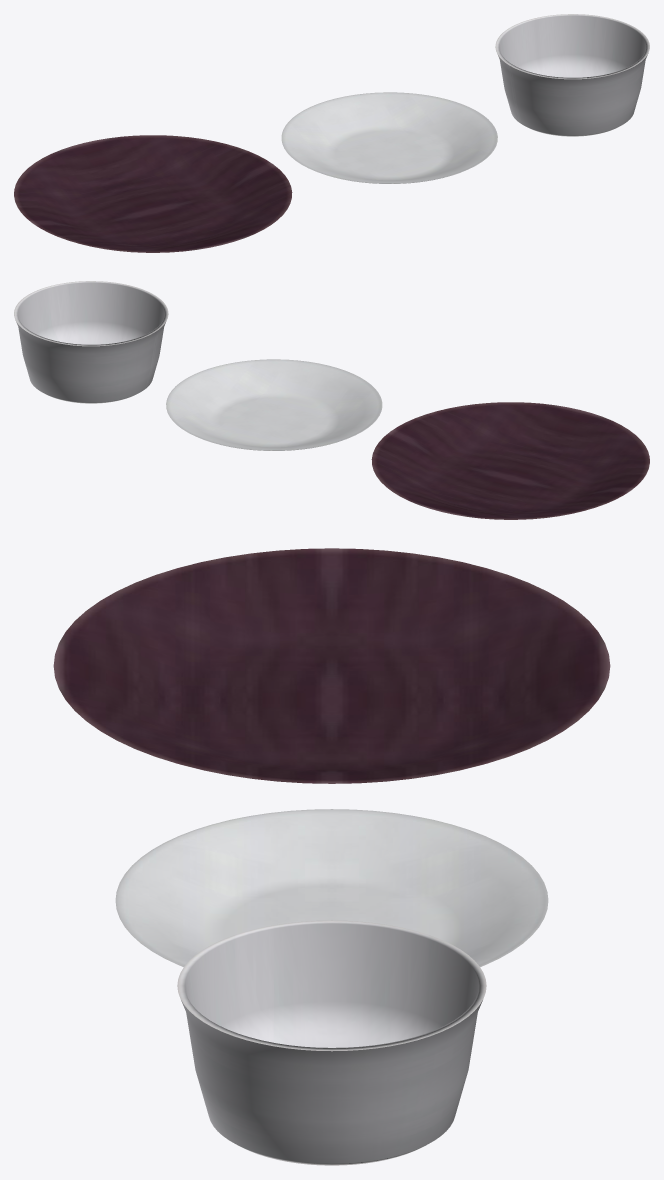
The model's file is FLO-09.glb.
3 views of the same model, one above another, from view 1: azimuth 30°, elevation 25°; view 2: azimuth 150°, elevation 25°; view 3: azimuth 270°, elevation 25° (orthographic). The views are drawn at different scales.
Bounding box in the file's own units: 0.68 × 0.07 × 0.27.
6 materials, 6 textured.
